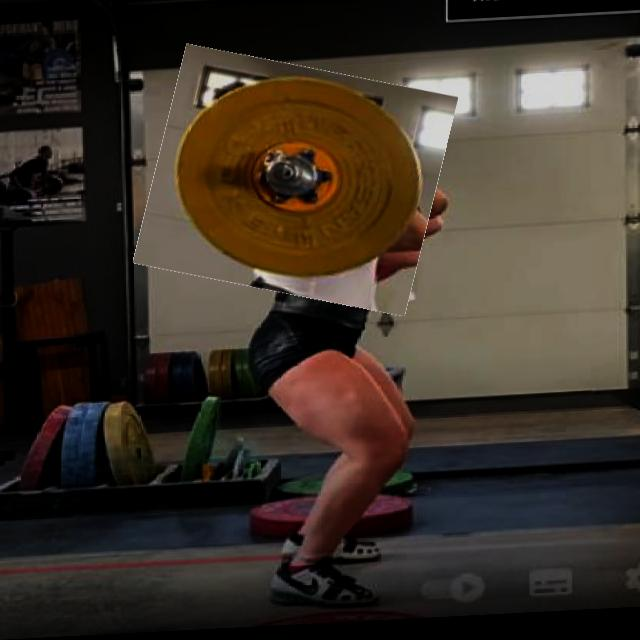barbell: (145, 52, 448, 317)
